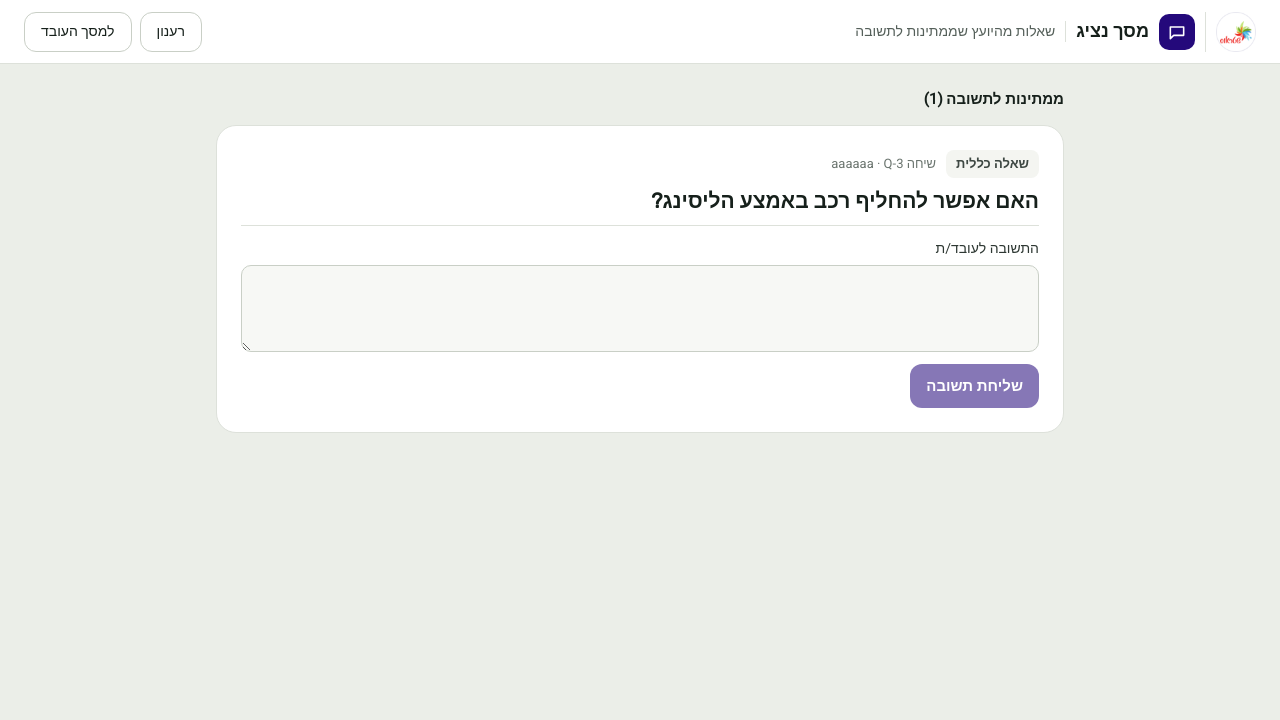
Scenario: representative screen › shows the server's message when an answer is refused
Type "כן, בתיאום מראש" into the text box labelled "התשובה לעובד/ת" at (640, 309), box x1=241 y1=265 x2=1039 y2=352
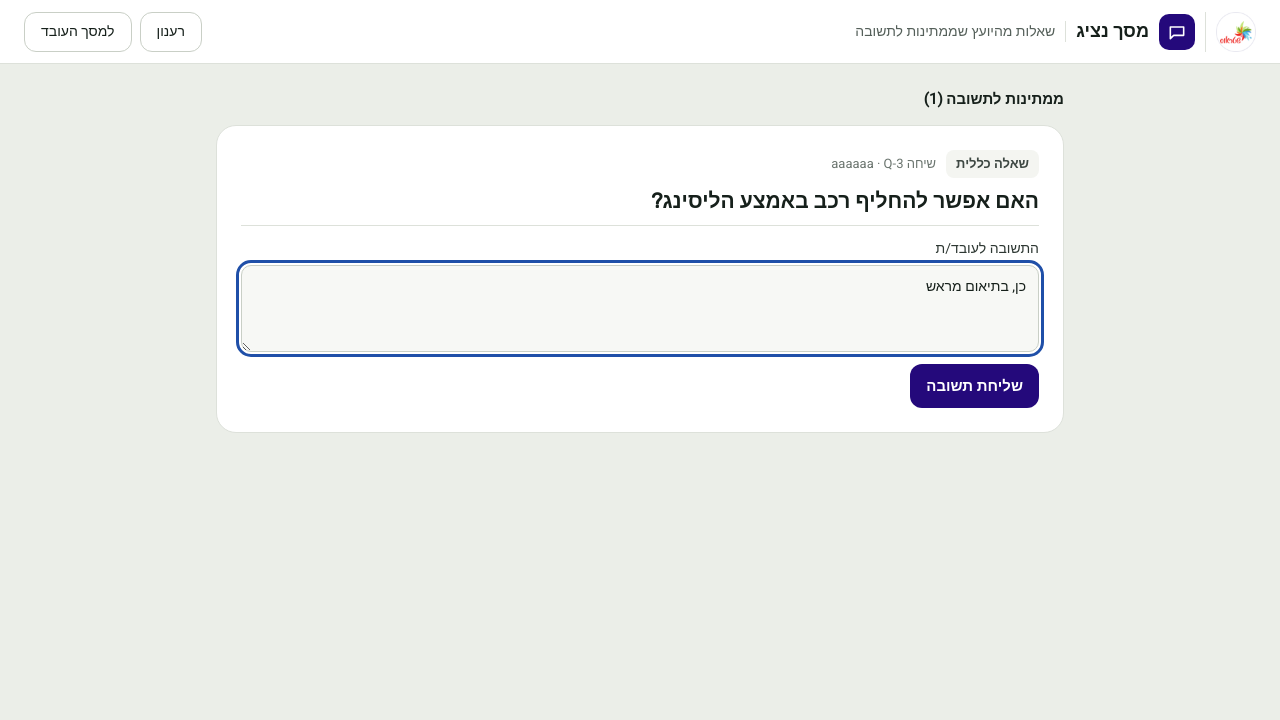
Click the button "שליחת תשובה" at (975, 386), box x1=910 y1=364 x2=1039 y2=408
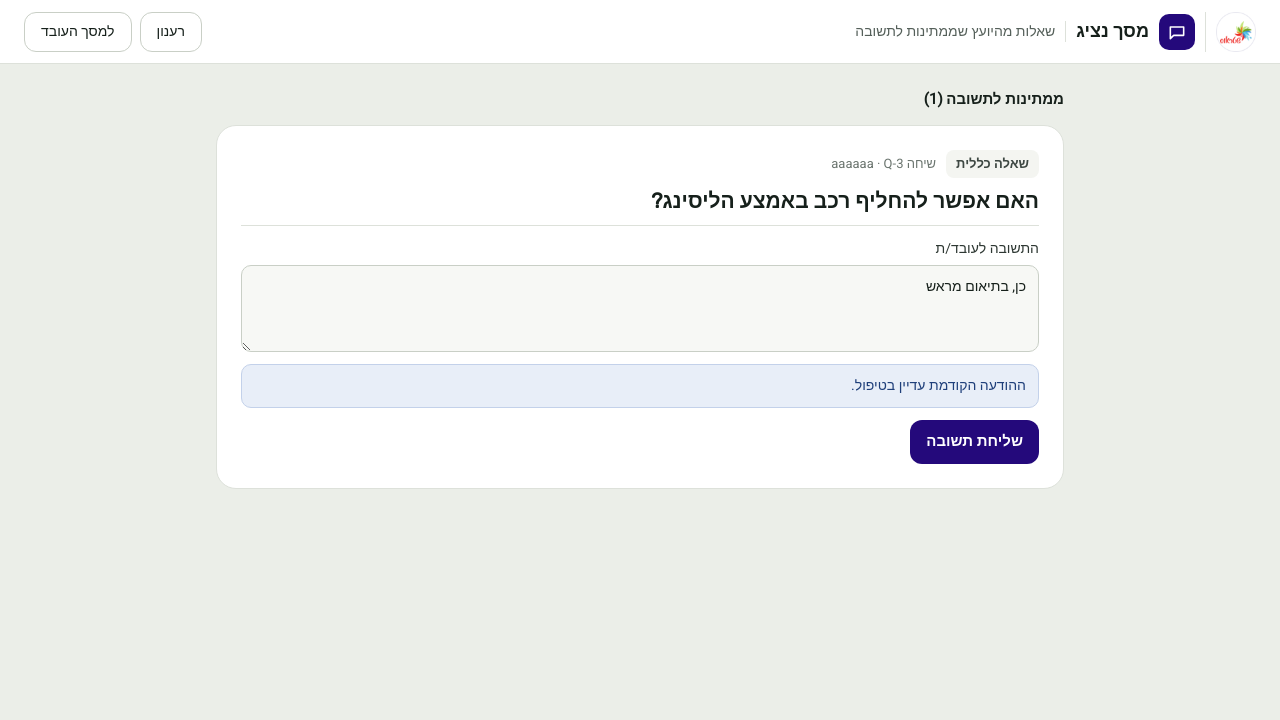
Result: the message reads "ההודעה הקודמת עדיין בטיפול." at x1=851 y1=375 x2=1026 y2=396
